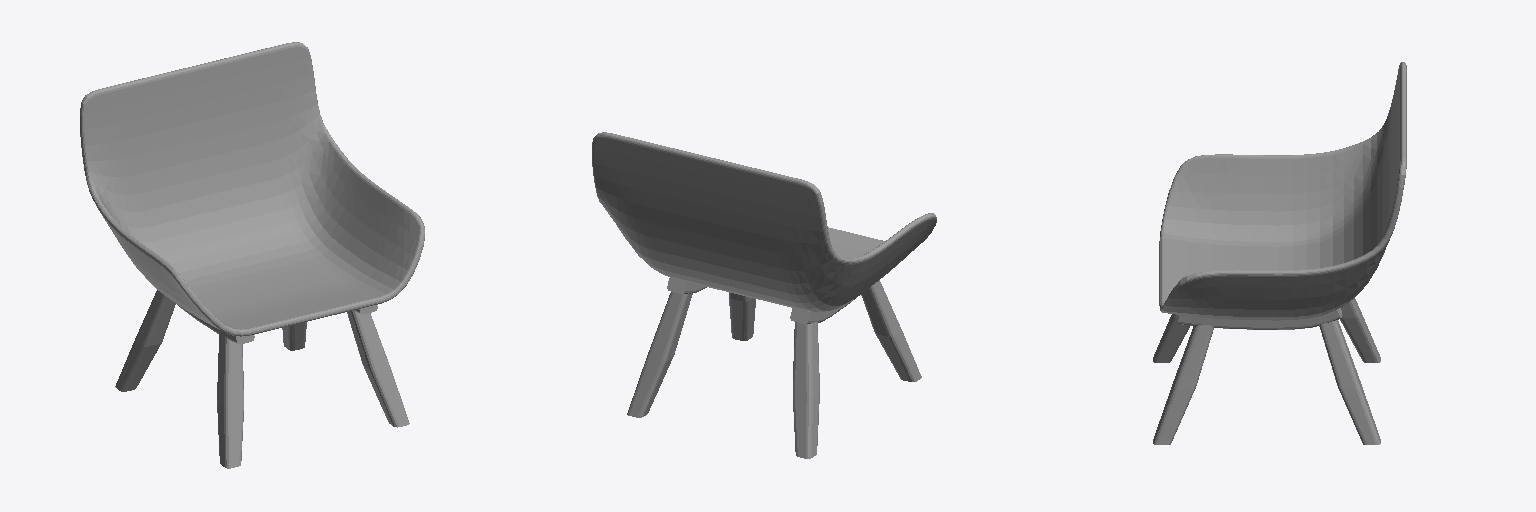
Rendered from chair2.obj.
The picture shows the model from 3 angles: view 1: azimuth 30°, elevation 25°; view 2: azimuth 150°, elevation 25°; view 3: azimuth 270°, elevation 25°; orthographic projection.
Parts seen in each view (by area): view 1: Plane, Cube_Cube.001; view 2: Plane, Cube_Cube.001; view 3: Plane, Cube_Cube.001.
Boxes of the visible parts, x1,y1,x2,y2 form: Plane: [80, 42, 424, 336]; Cube_Cube.001: [115, 290, 409, 468]; Plane: [592, 132, 936, 311]; Cube_Cube.001: [627, 278, 921, 458]; Plane: [1159, 62, 1406, 320]; Cube_Cube.001: [1153, 298, 1380, 444].
Size of the model in its own units: 2.11 by 2.37 by 1.88.